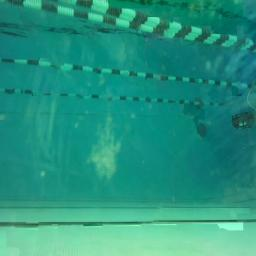Side: (232, 110, 254, 130)
